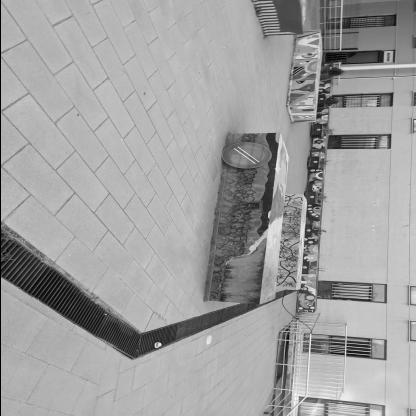No Waiting: (222, 144, 272, 170)
